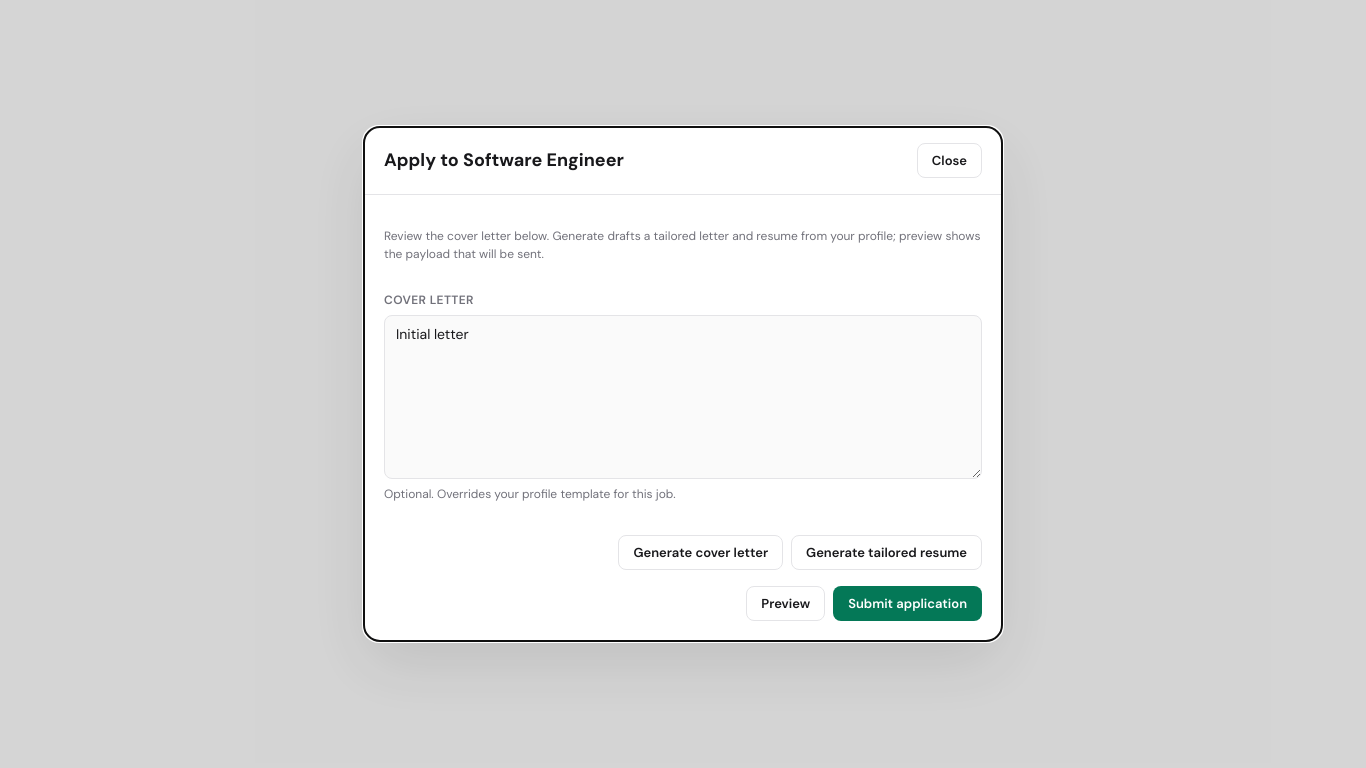
Test case: ApplyJobDialog apply flow › shows the poll error when the queued application fails
Click the button "Submit application" at (908, 604), box [833,586,982,621]
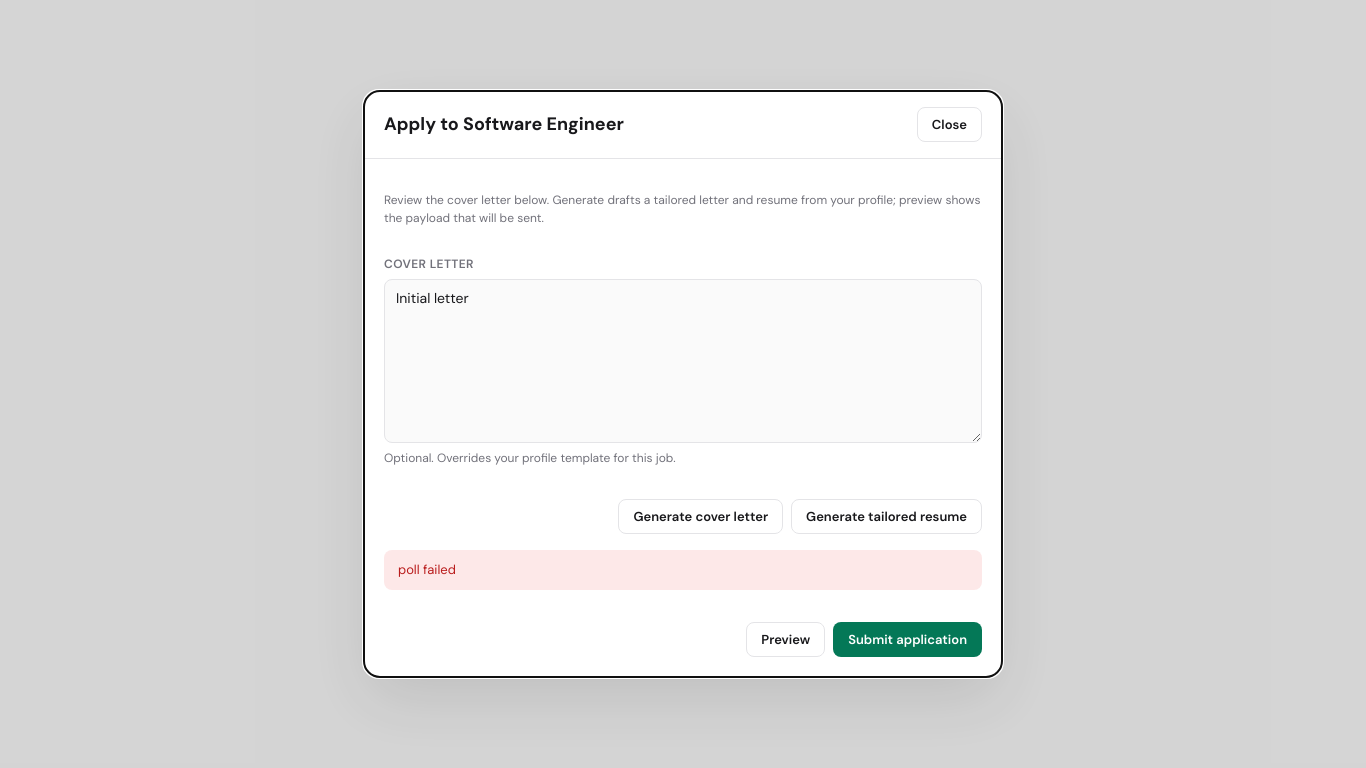
Expected: the text "poll failed" is shown, [384,550,982,590]
